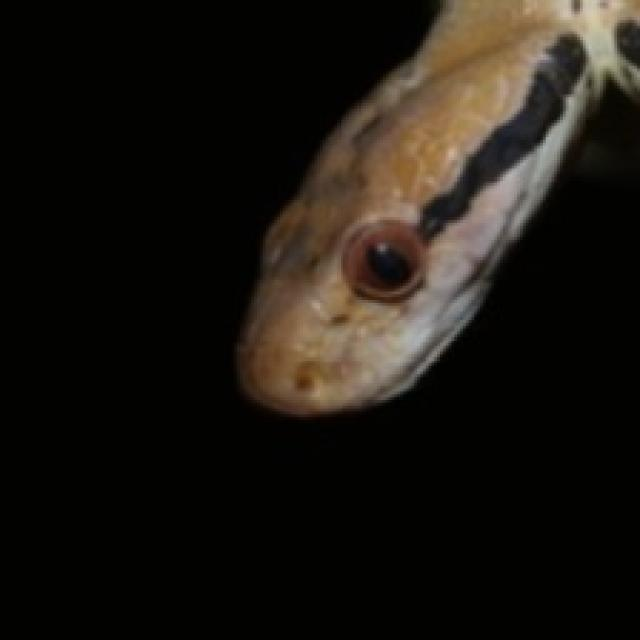dog-toothed cat snake: (237, 0, 637, 414)
